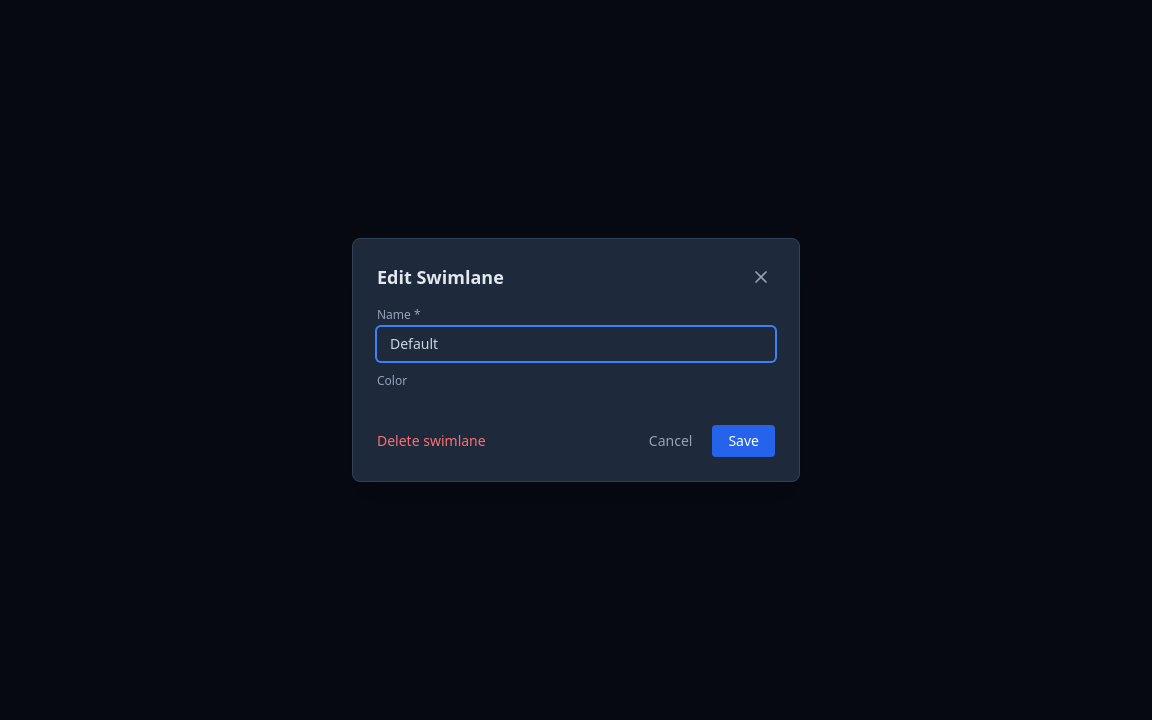
Test: EditSwimlaneModal › blocks delete when swimlane has cards
Click the button "Delete swimlane".
click(431, 441)  # box [377,431,486,451]
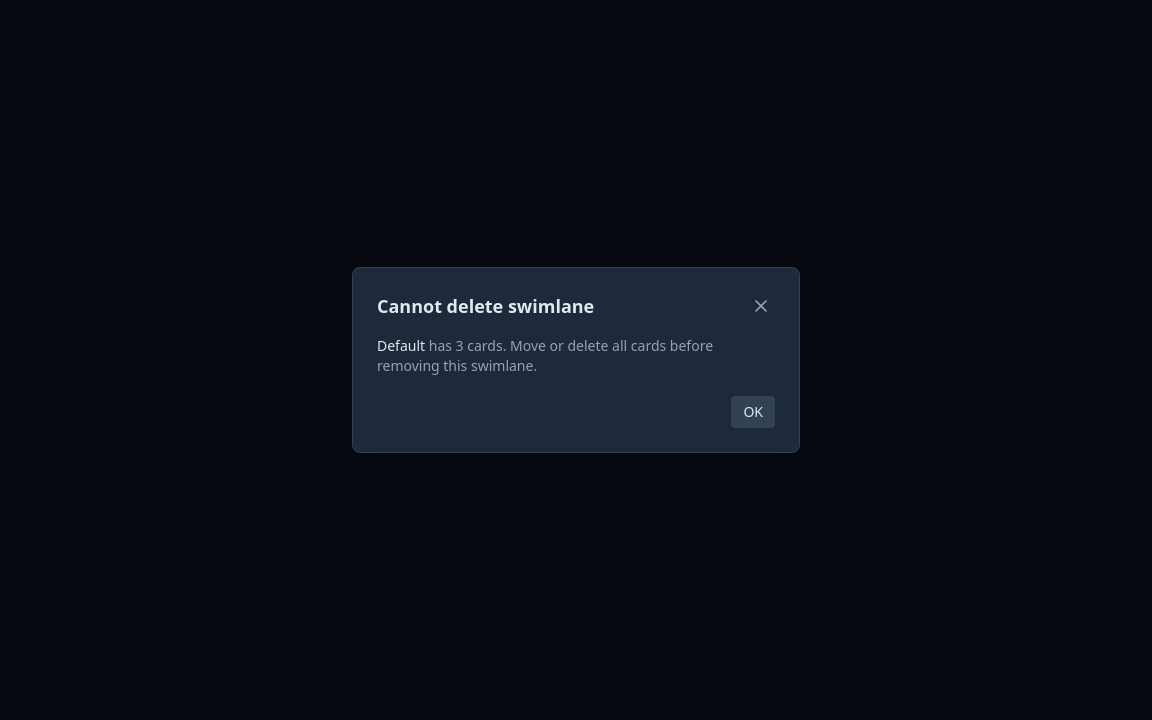
Expected: the text "Move or delete all cards" is shown, [377,336,713,375]
